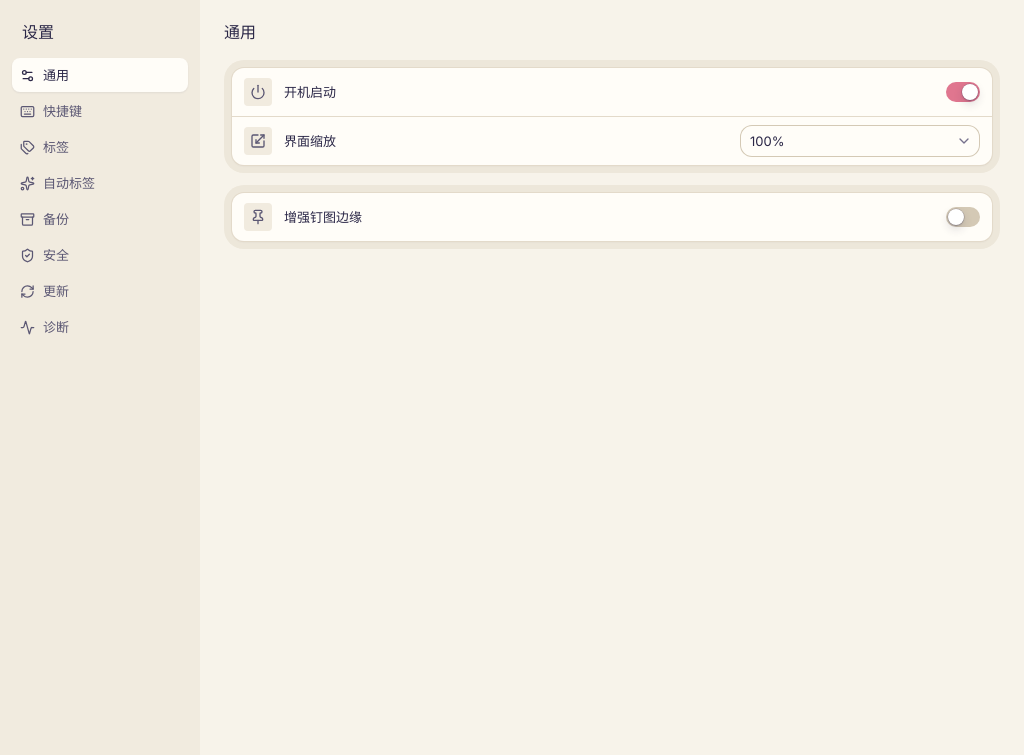
设置：界面缩放 › 快捷键分页列出放大、缩小、复位三个固定按键，不能更换
Click the tab "快捷键". click: point(100, 111)
box: 12,94 -> 188,128
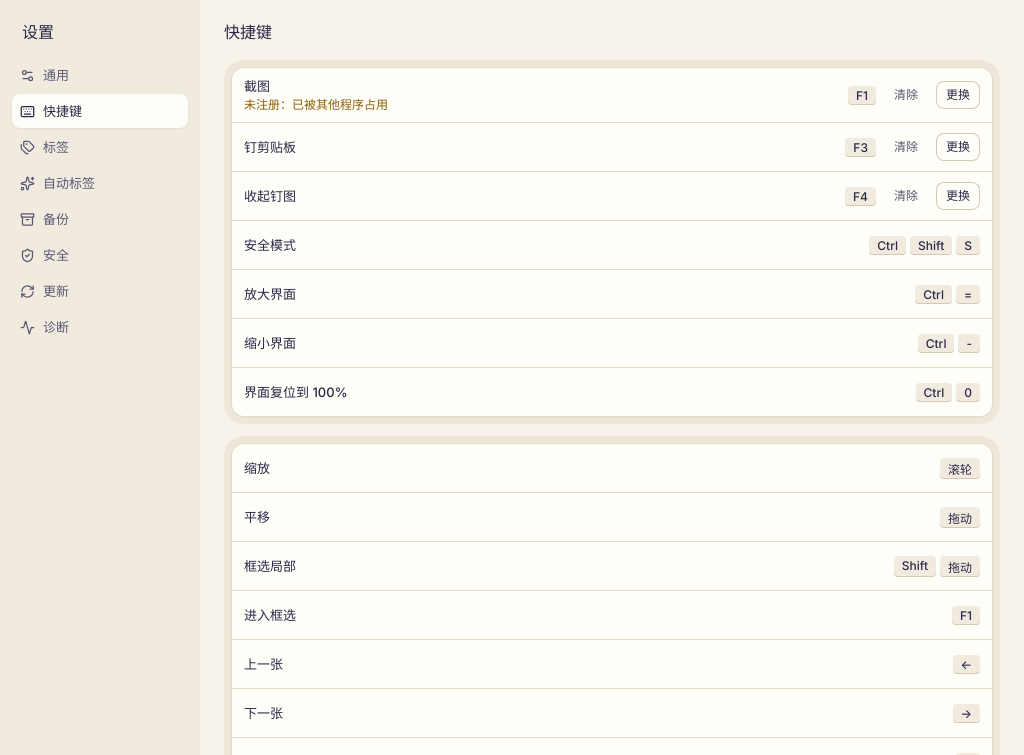
Now the heading "快捷键" is shown, box 224,22 -> 272,42
Now the element named "Ctrl+=" is shown, box 915,284 -> 980,304
Now the element named "Ctrl+-" is shown, box 918,334 -> 980,352
